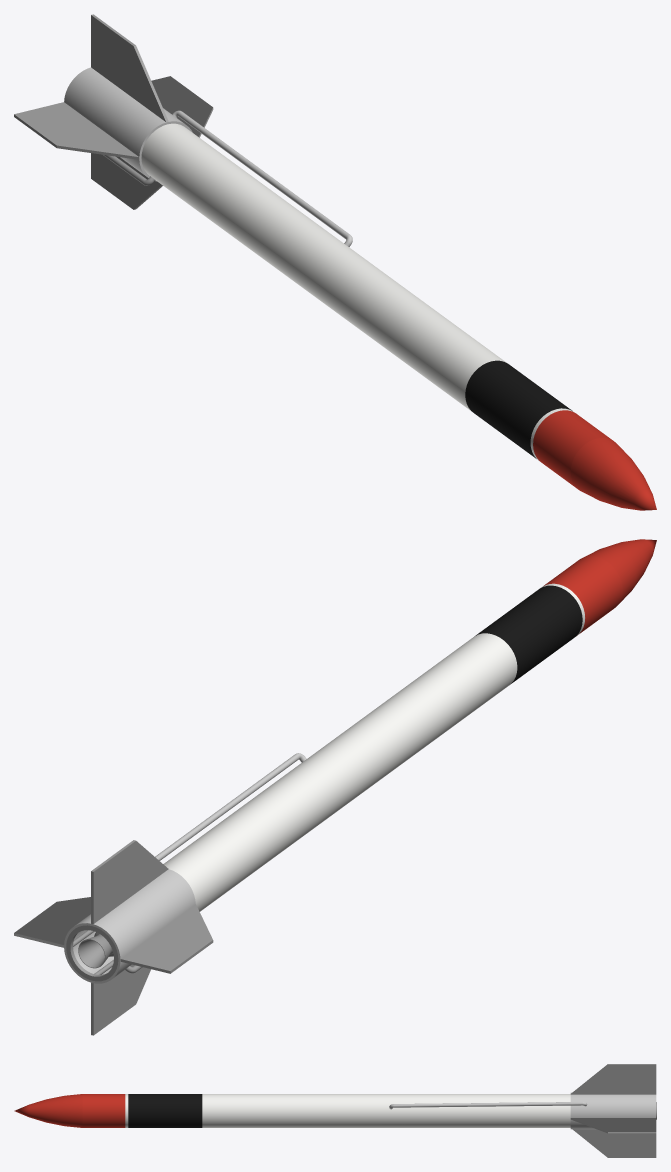
The model's file is callisto.obj.
The picture shows the model from 3 angles, top to bottom: view 1: azimuth 30°, elevation 25°; view 2: azimuth 150°, elevation 25°; view 3: azimuth 270°, elevation 25°; orthographic projection. The views are drawn at different scales.
Parts seen in each view (by area): view 1: LOX Casing-3, Fuel Casing-2, Helium Casing-1, Engine Sleeve, Nosecone-1, Engine Sleeve-3, Engine Sleeve-4, Electronics-3, Engine Sleeve-5, Engine Sleeve-1, LOX Dome-2; view 2: LOX Casing-3, Fuel Casing-2, Engine Sleeve, Helium Casing-1, Engine Sleeve-3, Engine Sleeve-4, Electronics-3, Engine Sleeve-5, Engine Sleeve-1, Nosecone-1, LOX Dome-2, Callisto I Concept v12 (+1 smaller); view 3: LOX Casing-3, Fuel Casing-2, Helium Casing-1, Engine Sleeve, Engine Sleeve-3, Engine Sleeve-5, Nosecone-1, Electronics-3, Engine Sleeve-1, LOX Dome-2, Engine Sleeve-2.
Part boxes in pixels (x1,y1,x2,y2): LOX Casing-3: (289, 232, 507, 411); Fuel Casing-2: (141, 123, 328, 281); Helium Casing-1: (467, 362, 572, 458); Engine Sleeve: (64, 67, 192, 181); Nosecone-1: (570, 438, 656, 510); Engine Sleeve-3: (91, 14, 168, 122); Engine Sleeve-4: (14, 102, 139, 159); Electronics-3: (533, 410, 612, 488); Engine Sleeve-5: (91, 153, 162, 209); Engine Sleeve-1: (151, 76, 212, 136); LOX Dome-2: (172, 110, 352, 246); LOX Casing-3: (300, 633, 517, 812); Fuel Casing-2: (163, 763, 339, 911); Engine Sleeve: (64, 869, 195, 983); Helium Casing-1: (478, 585, 582, 681); Engine Sleeve-3: (91, 840, 168, 923); Engine Sleeve-4: (120, 904, 213, 973); Electronics-3: (544, 556, 622, 635); Engine Sleeve-5: (91, 964, 150, 1035); Engine Sleeve-1: (14, 897, 90, 944); Nosecone-1: (585, 539, 656, 604); LOX Dome-2: (155, 753, 306, 860); Callisto I Concept v12: (66, 925, 118, 981); LOX Casing-3: (202, 1094, 402, 1127); Fuel Casing-2: (405, 1094, 570, 1127); Helium Casing-1: (128, 1094, 199, 1127); Engine Sleeve: (570, 1092, 656, 1129); Engine Sleeve-3: (570, 1064, 656, 1094); Engine Sleeve-5: (572, 1129, 656, 1157); Nosecone-1: (14, 1094, 82, 1127); Electronics-3: (82, 1094, 125, 1127); Engine Sleeve-1: (571, 1118, 656, 1131); LOX Dome-2: (389, 1102, 587, 1109); Engine Sleeve-2: (570, 1118, 656, 1133).
Bounding box in the file's own units: 360 × 360 × 2252.
